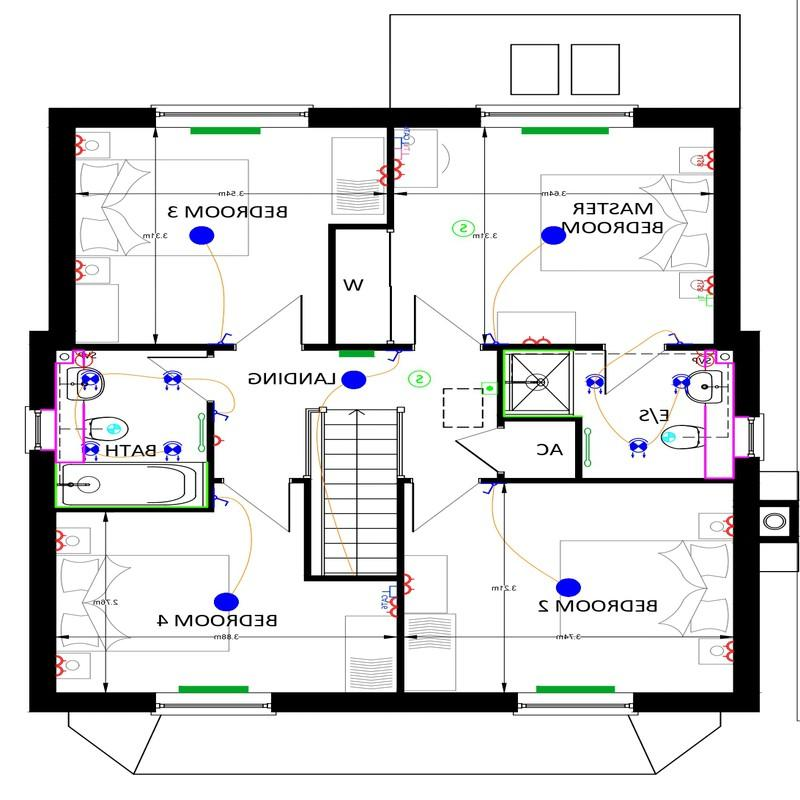Cat 6 Data Socket: (370, 579, 399, 598), (392, 132, 420, 149)
Ceiling Mounted Continuous Extract Fan With Boost Mode Activated By Light Switch: (95, 414, 131, 438), (661, 424, 680, 454)
Co-Ax TV Socket: (394, 148, 417, 159)
Double Socket: (513, 325, 562, 346), (73, 249, 94, 289), (72, 133, 99, 163), (371, 152, 388, 195), (715, 633, 734, 668), (54, 642, 70, 681), (717, 507, 733, 544), (379, 594, 398, 625), (400, 570, 419, 600), (393, 157, 410, 186), (54, 527, 71, 554)
Full Height Tiling: (51, 459, 211, 510), (500, 346, 576, 419)
Light Switch: (379, 348, 410, 371), (210, 484, 233, 510), (211, 325, 238, 345), (664, 328, 693, 345), (474, 483, 503, 498), (215, 402, 230, 429), (482, 326, 503, 344)
Low Energy Downlighter: (70, 369, 107, 406), (619, 429, 658, 463), (149, 437, 192, 467), (157, 363, 186, 401), (584, 368, 609, 408), (668, 367, 695, 401), (77, 436, 104, 462)
Low Energy Pendant Light: (548, 564, 590, 602), (205, 584, 245, 619), (536, 220, 574, 250), (189, 224, 218, 257), (339, 369, 368, 394)
Mains Wired Smoke Detector: (447, 210, 479, 244), (406, 367, 439, 395)
Programmable Room Thermostat: (476, 377, 499, 404)
Radiator: (527, 676, 627, 697), (169, 676, 254, 694), (520, 126, 610, 140), (180, 126, 269, 138), (331, 348, 381, 359)
Shaver Socket: (688, 346, 725, 371), (69, 349, 106, 370)
Single Socket: (213, 424, 230, 451)
Telephone Socket: (692, 293, 715, 312)
USB Double Socket: (696, 145, 715, 182), (696, 272, 718, 296)
